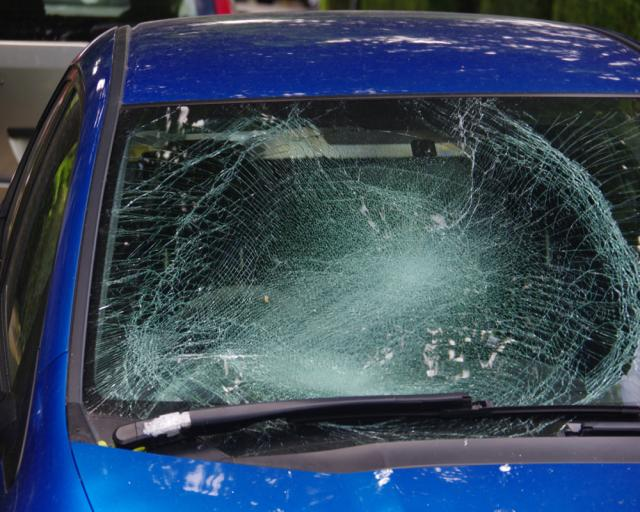glass shatter: (84, 95, 640, 456)
